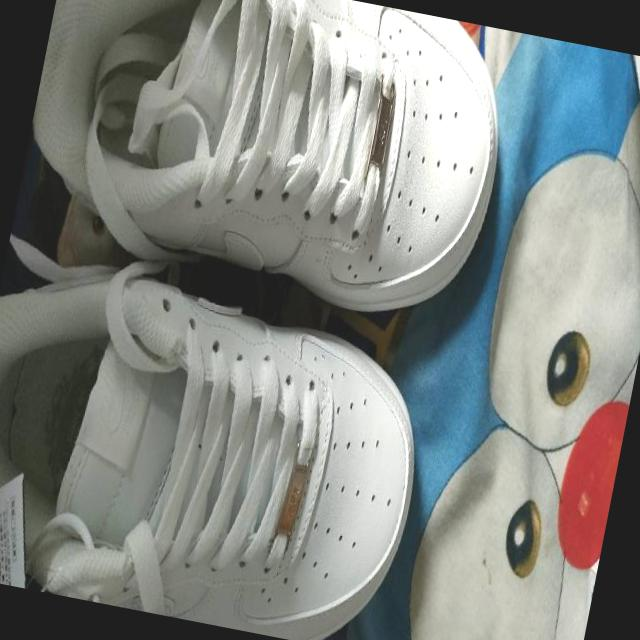nike_fake_airforce: (6, 0, 525, 343), (0, 241, 445, 640)
